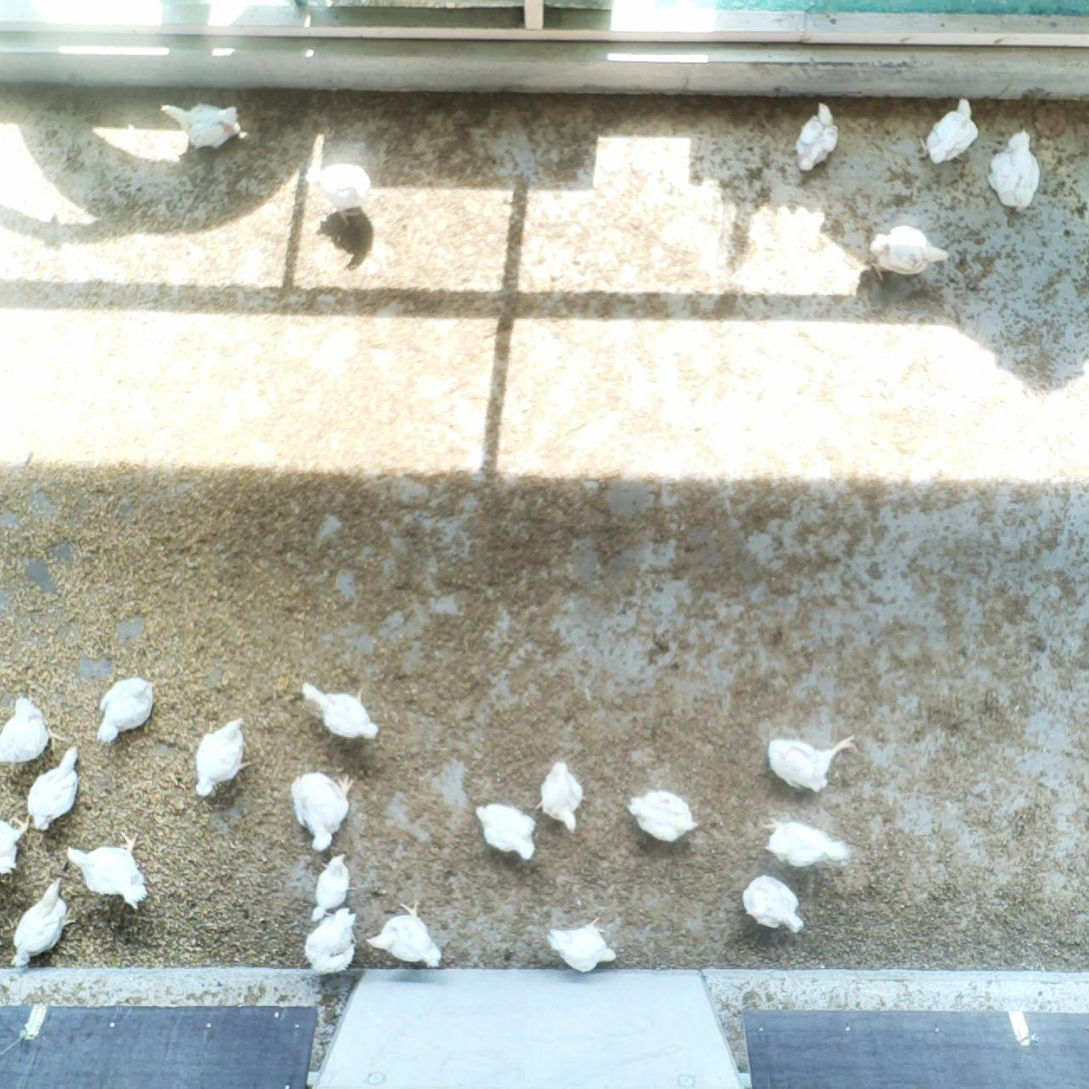chicken: (60, 828, 151, 914), (8, 874, 78, 970), (764, 729, 860, 798), (364, 897, 449, 972), (295, 674, 385, 744), (24, 741, 91, 833), (291, 766, 359, 855), (192, 714, 259, 802), (985, 125, 1045, 220), (865, 220, 954, 284), (761, 812, 854, 873), (466, 795, 541, 867), (305, 157, 376, 231), (157, 100, 251, 155), (915, 94, 981, 172), (0, 693, 66, 770), (544, 912, 620, 977), (94, 673, 158, 747), (739, 872, 809, 939), (533, 757, 589, 839), (626, 786, 701, 844), (300, 904, 362, 974), (791, 98, 843, 178), (308, 850, 359, 925), (0, 809, 33, 883)
